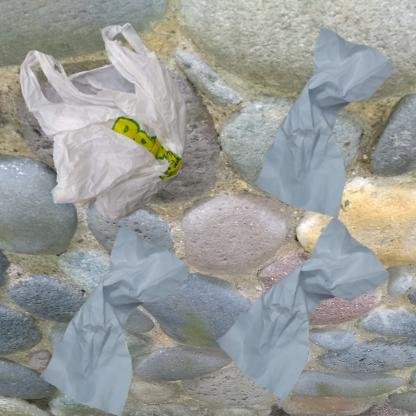bolsa: (10, 10, 227, 256)
papel: (213, 10, 416, 262), (10, 213, 230, 416), (213, 213, 391, 412)
